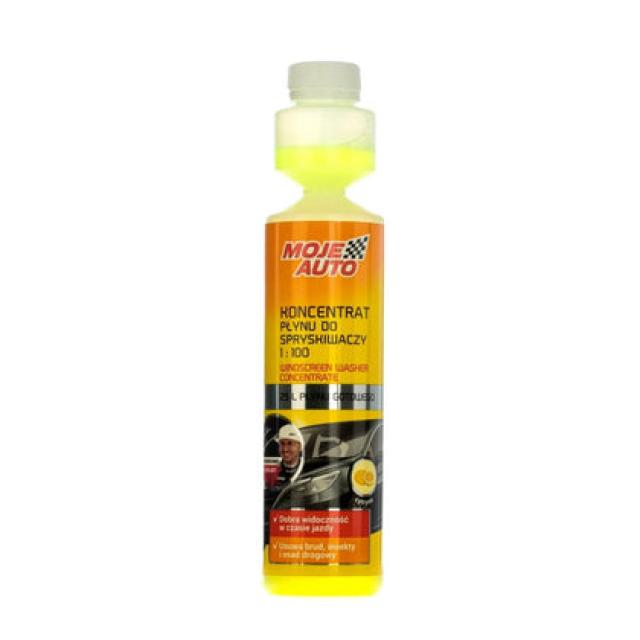winwinshield_washer: (260, 57, 388, 602)
